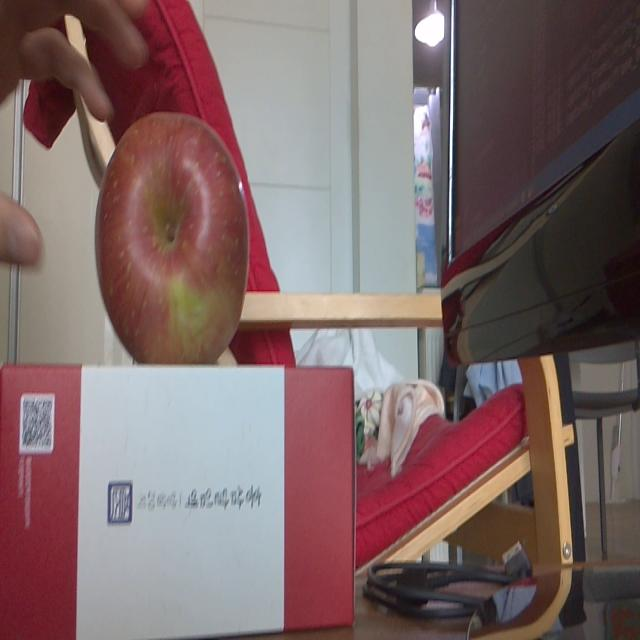apple: (95, 111, 249, 362)
